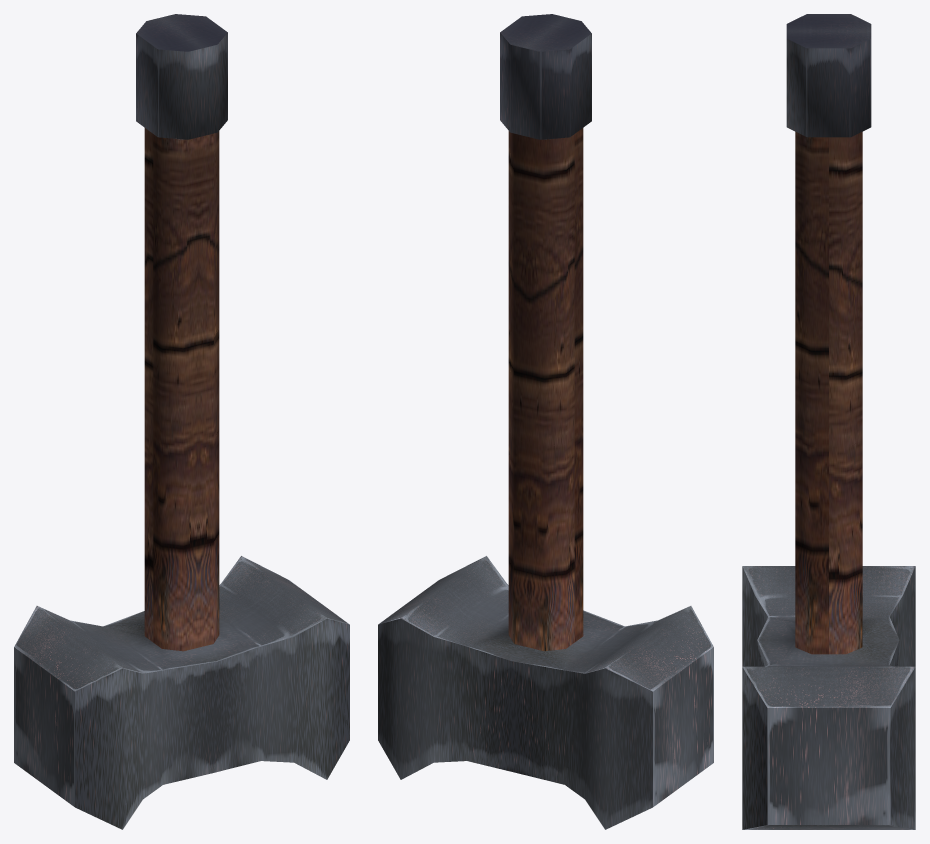
The model's file is mazo-medieval.fbx.
3 views of the same model, side by side, from view 1: azimuth 30°, elevation 25°; view 2: azimuth 150°, elevation 25°; view 3: azimuth 270°, elevation 25° (orthographic).
Parts seen in each view (by area): view 1: Cube; view 2: Cube; view 3: Cube.
Boxes of the visible parts, x1,y1,x2,y2 form: Cube: (14,14,349,829); Cube: (378,14,713,829); Cube: (742,14,915,829).
Size of the model in its own units: 0.2441 by 0.6282 by 0.132.
1 material, 1 textured.
